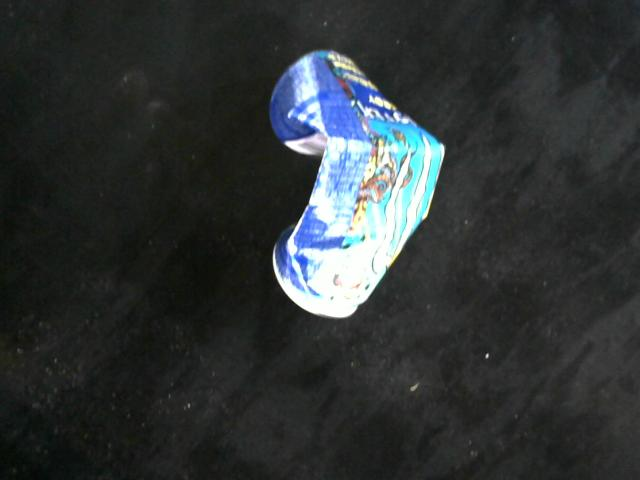can: (265, 43, 452, 327)
